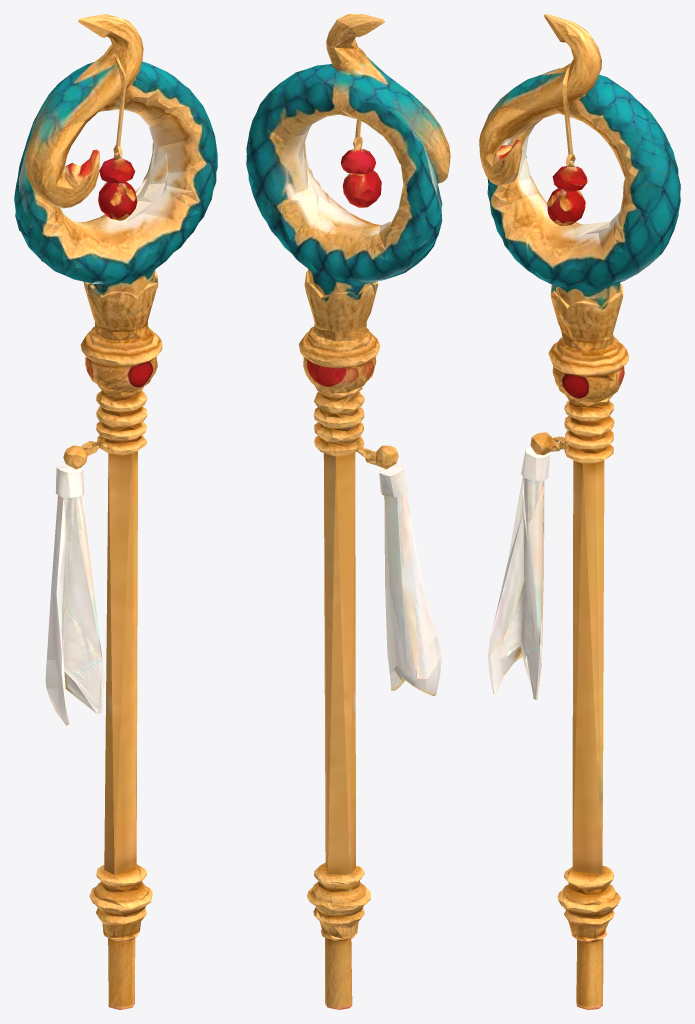
File: baculo.glb
3 views of the same model, side by side, from view 1: azimuth 30°, elevation 25°; view 2: azimuth 150°, elevation 25°; view 3: azimuth 330°, elevation 25° (orthographic).
Size of the model in its own units: 0.3782 by 1.9 by 0.1691.
Materials: 1 (1 with a texture image).
